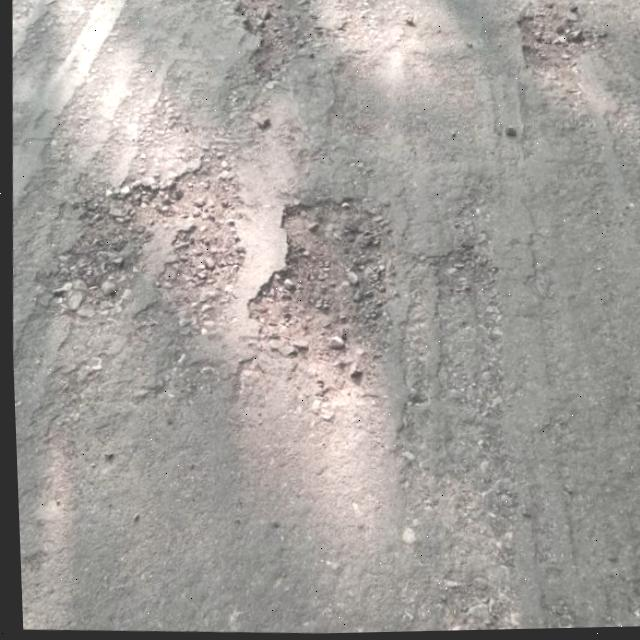Pothole: (232, 188, 403, 408), (40, 175, 167, 313), (147, 159, 249, 322), (216, 0, 326, 88), (509, 9, 610, 79)
